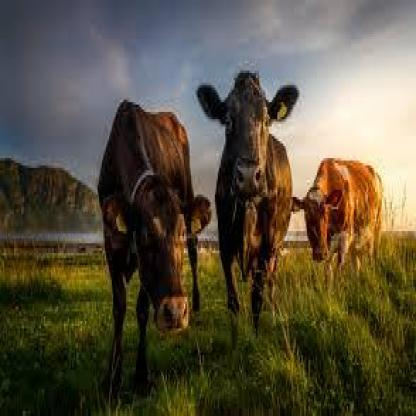cow: (97, 100, 210, 394), (194, 72, 304, 337), (292, 159, 382, 293)
